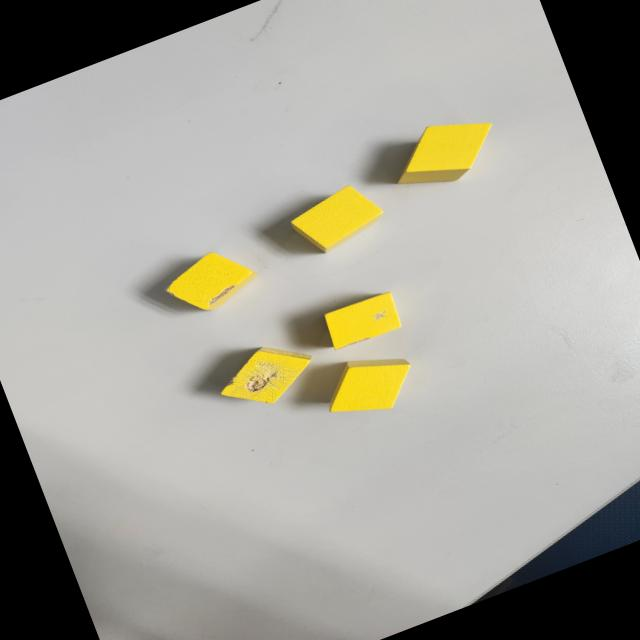broken: (210, 330, 324, 420), (157, 238, 266, 325), (318, 287, 406, 354)
yellow: (384, 104, 506, 200), (315, 340, 424, 430), (284, 176, 392, 262)
